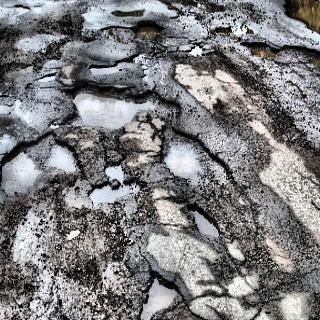pothole: (0, 129, 78, 200), (160, 120, 238, 188), (68, 81, 158, 135), (87, 156, 145, 211), (131, 270, 180, 320), (236, 41, 320, 67), (188, 200, 220, 239), (213, 18, 252, 39), (132, 18, 164, 42), (107, 4, 145, 22), (184, 40, 207, 63), (88, 62, 121, 77), (174, 0, 206, 12), (38, 69, 59, 85), (12, 4, 32, 19), (141, 60, 152, 86)
